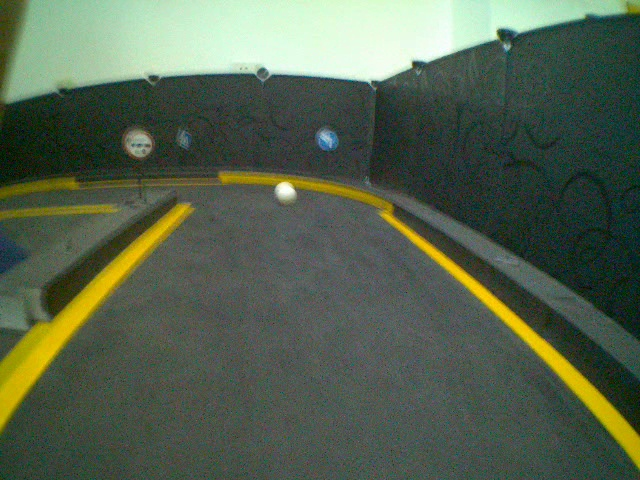ball: (273, 180, 298, 204)
